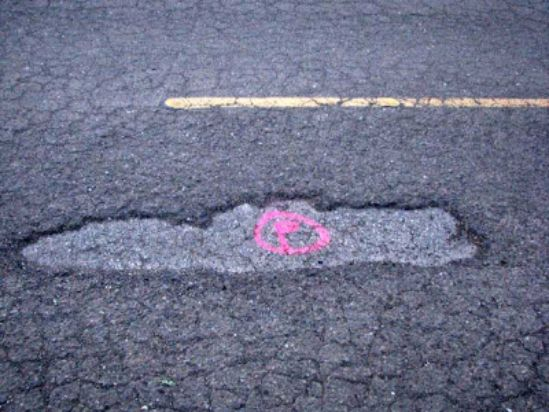pothole: (13, 184, 489, 287)
